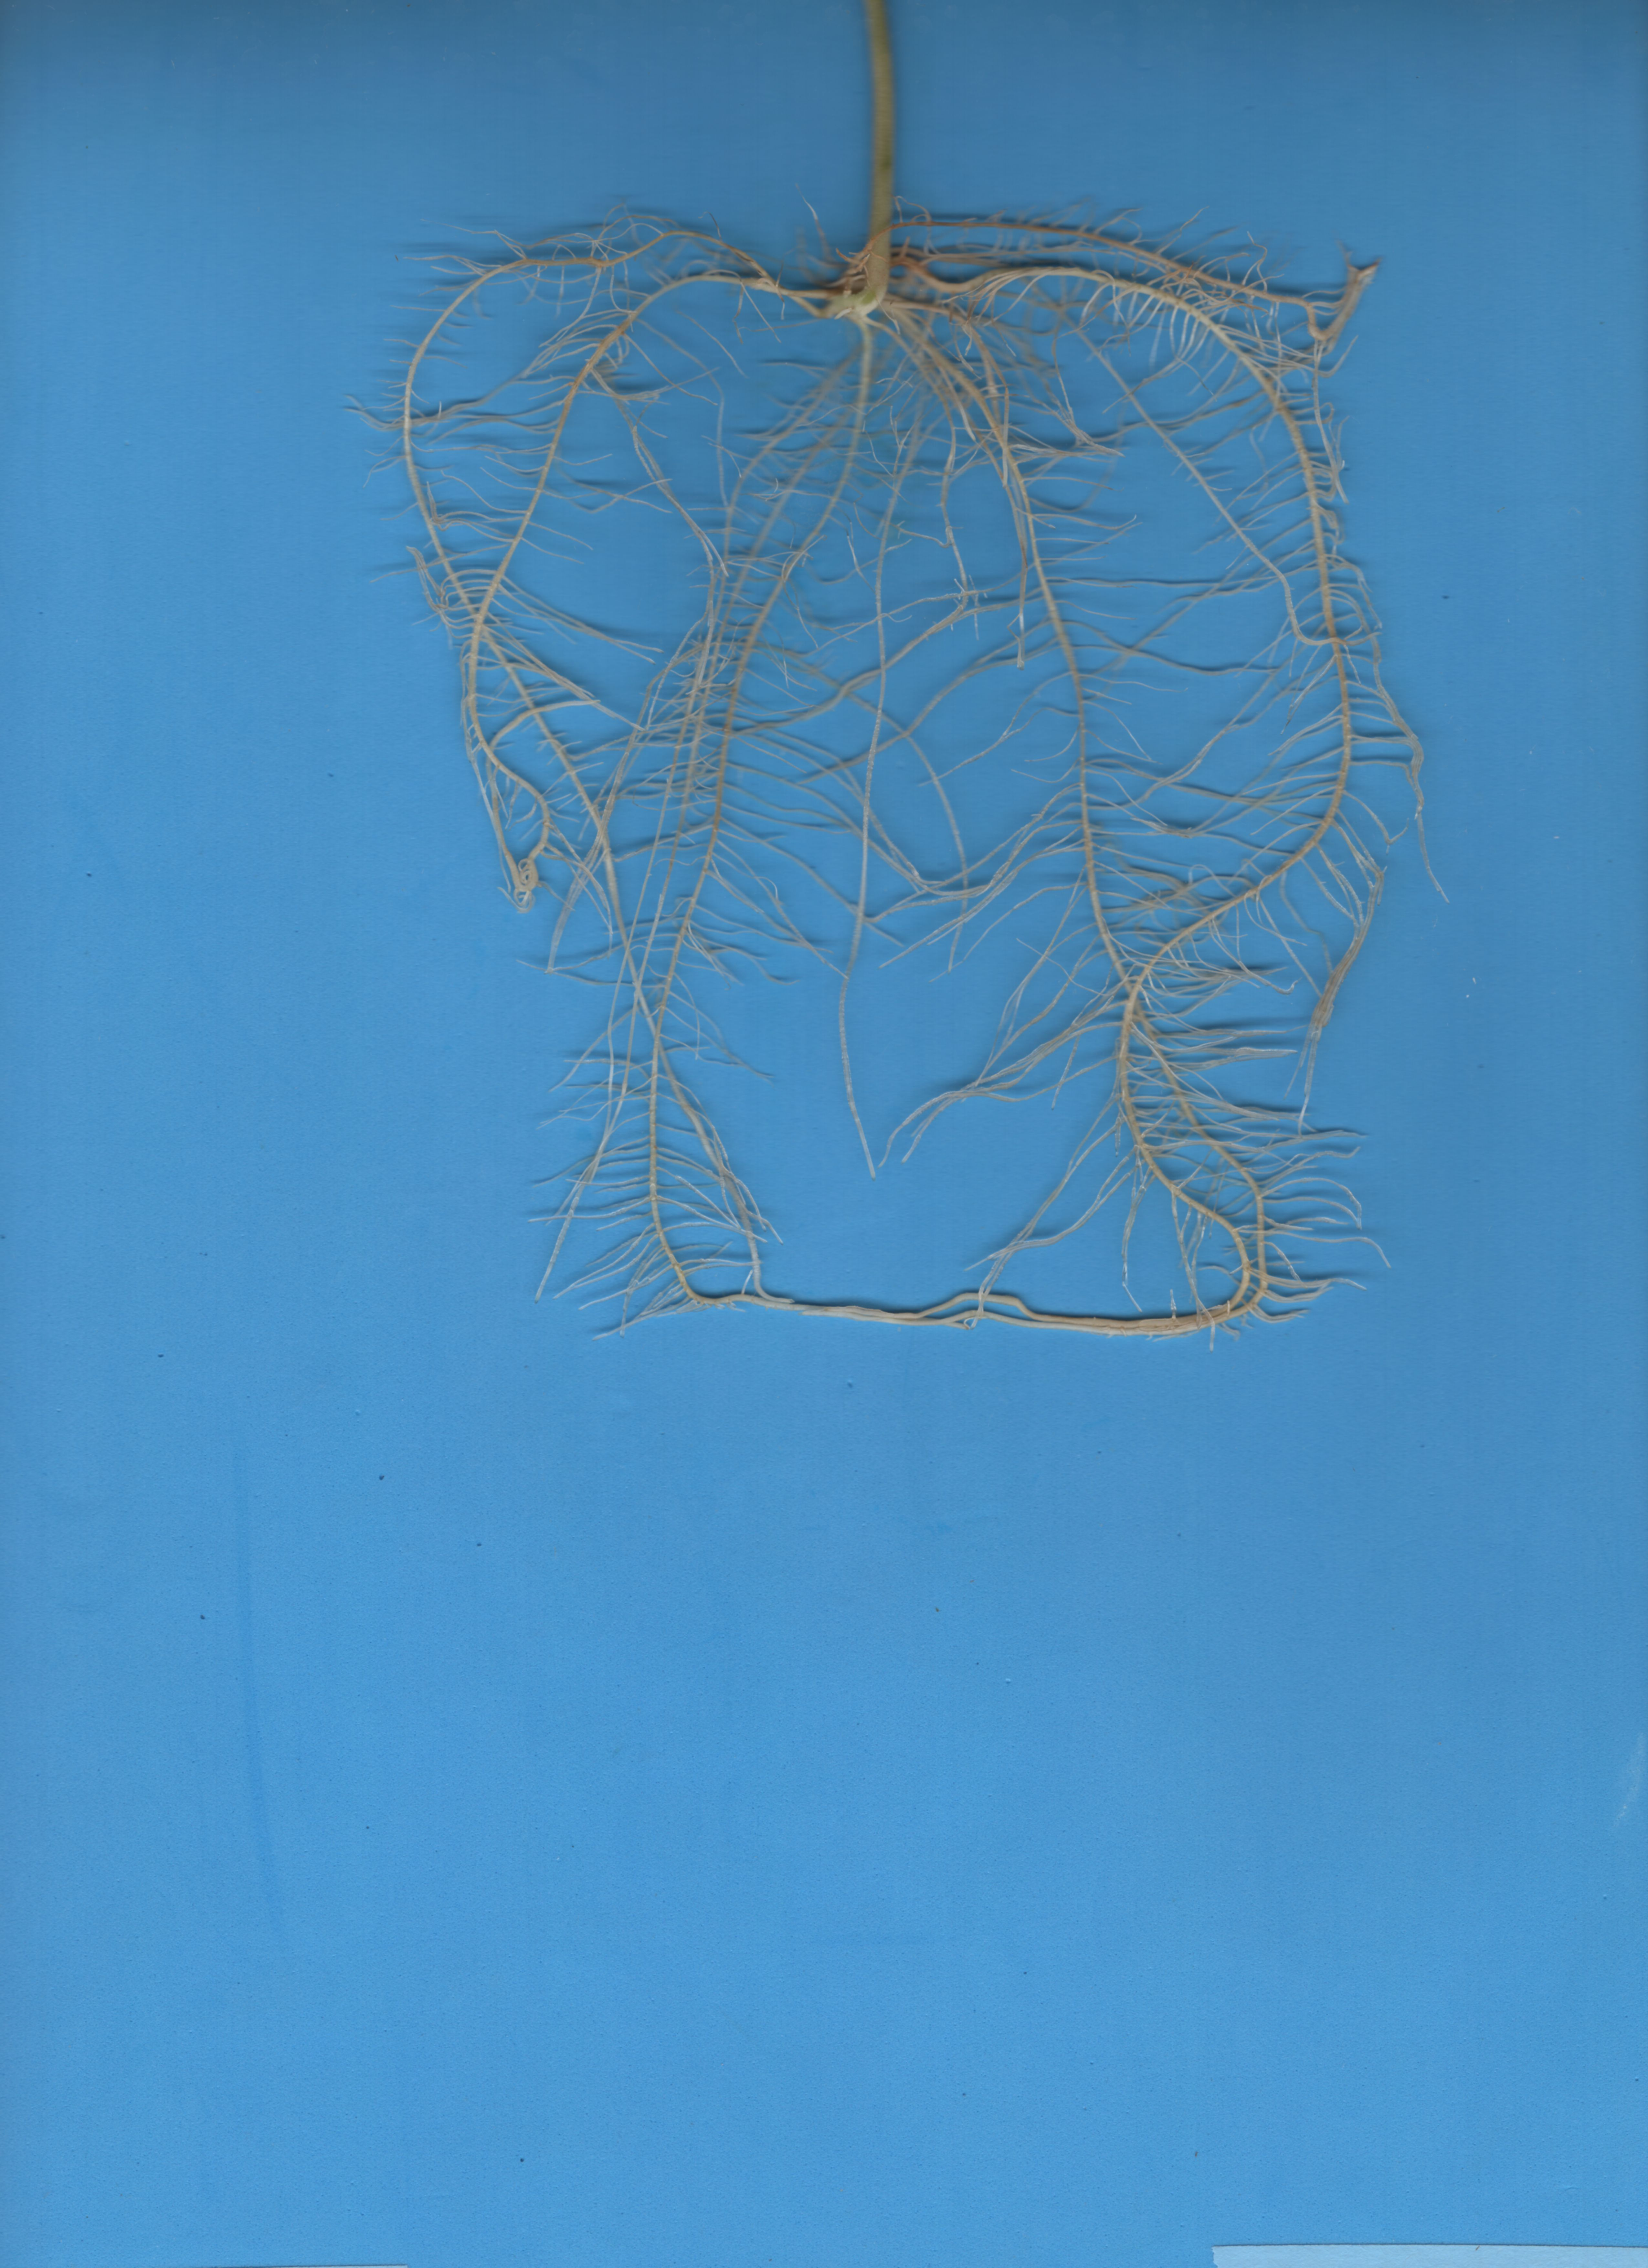CROWNGOOD: (808, 0, 988, 342)
ROOTGOOD: (298, 231, 1544, 1430)
